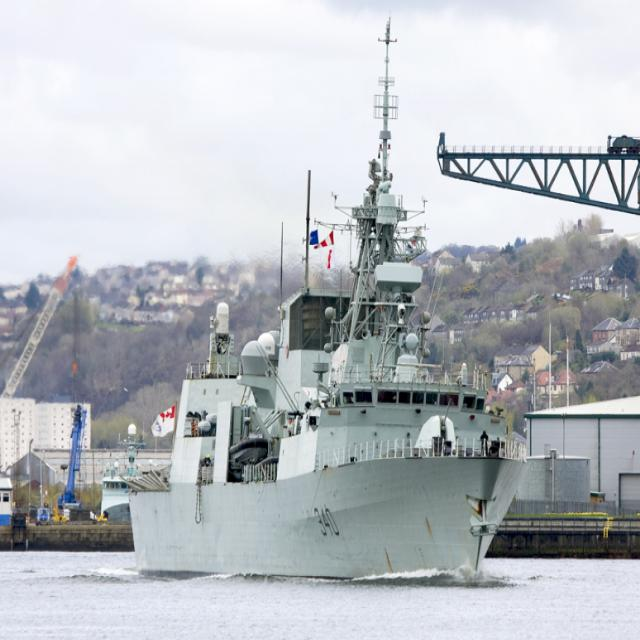Fragata: (117, 1, 531, 583)
